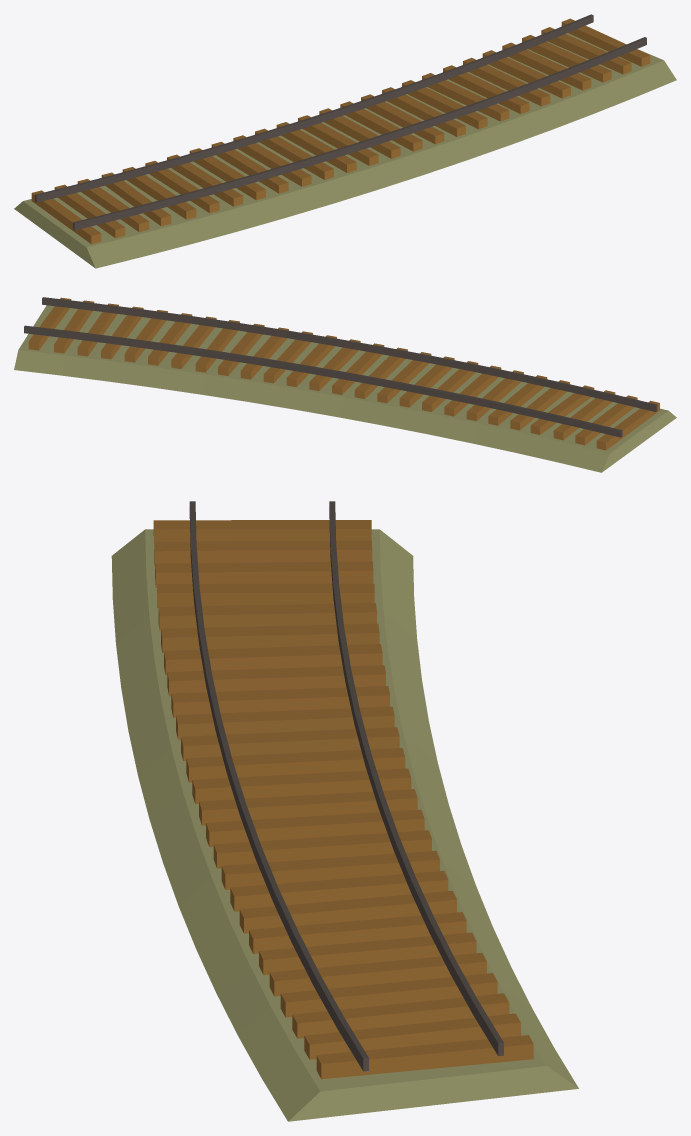
File: SM_Via_CurvaR60_v1_Madera_LOD0.fbx
3 renders of one model, top to bottom at view 1: azimuth 30°, elevation 25°; view 2: azimuth 150°, elevation 25°; view 3: azimuth 270°, elevation 25°, orthographic. The views are drawn at different scales.
Visible parts, largest first — view 1: SM_via_trazado_v11_LOD0; view 2: SM_via_trazado_v11_LOD0; view 3: SM_via_trazado_v11_LOD0.
Boxes of the visible parts, left/top/right/bottom form: SM_via_trazado_v11_LOD0: left=14, top=14, right=676, bottom=268; SM_via_trazado_v11_LOD0: left=14, top=297, right=676, bottom=472; SM_via_trazado_v11_LOD0: left=111, top=501, right=578, bottom=1121.
Size of the model in its own units: 16 by 0.72 by 5.58.
